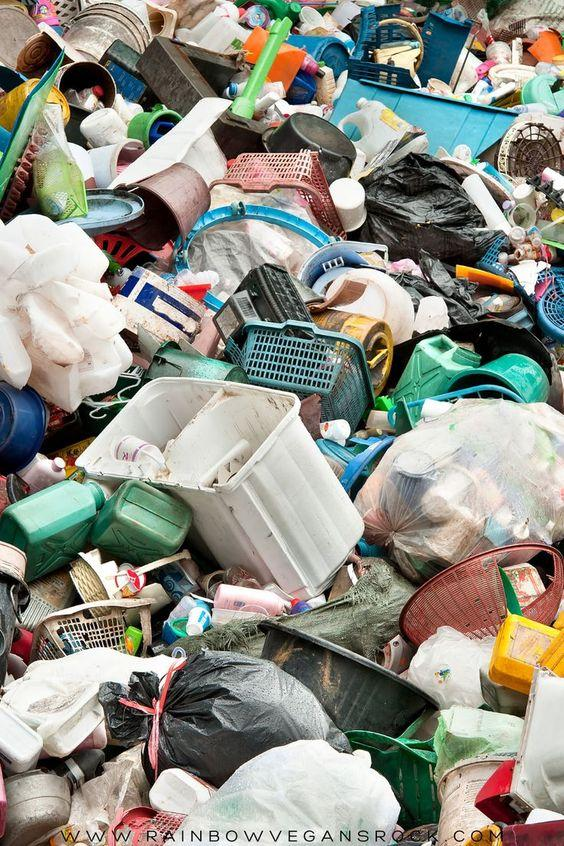HDPE: (75, 377, 367, 599), (0, 479, 107, 583), (92, 483, 194, 564), (388, 333, 479, 421), (212, 583, 295, 614), (20, 456, 66, 493)
